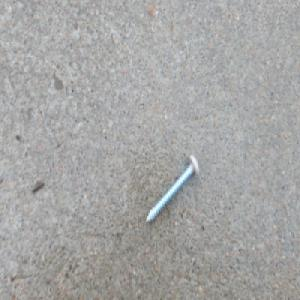Nail: (145, 153, 200, 226)
